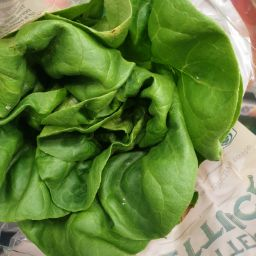Spinach: (7, 12, 237, 248), (42, 33, 189, 203)
